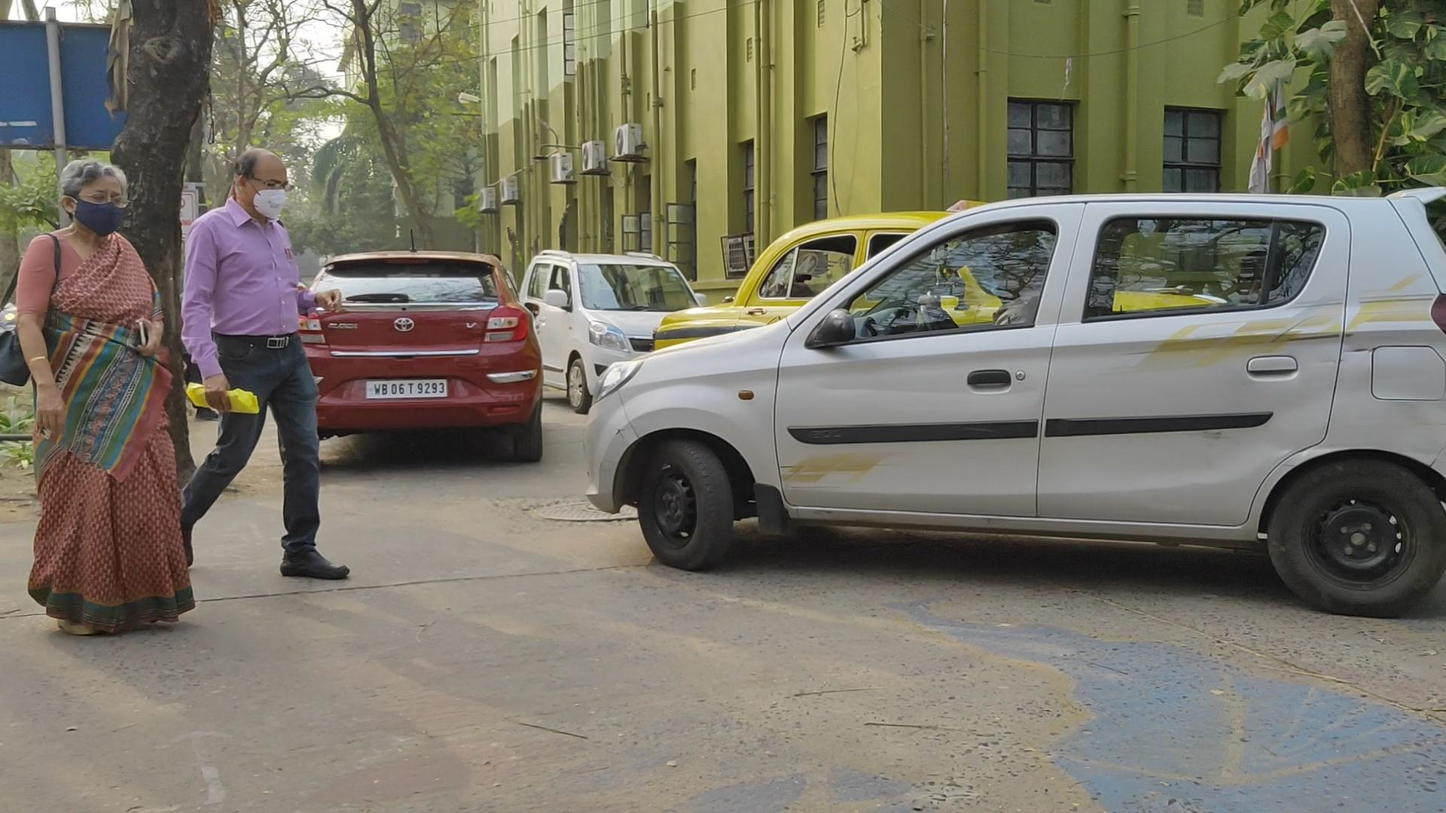car: (588, 188, 1446, 616), (656, 198, 1232, 507), (280, 250, 545, 465), (517, 248, 711, 416)
